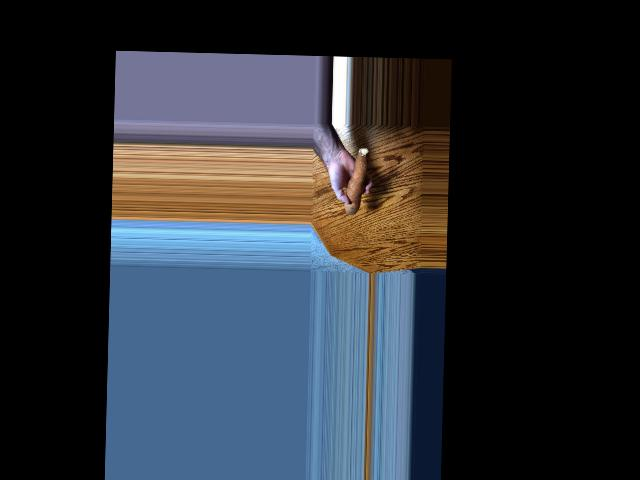sweet_potato: (347, 142, 370, 218)
